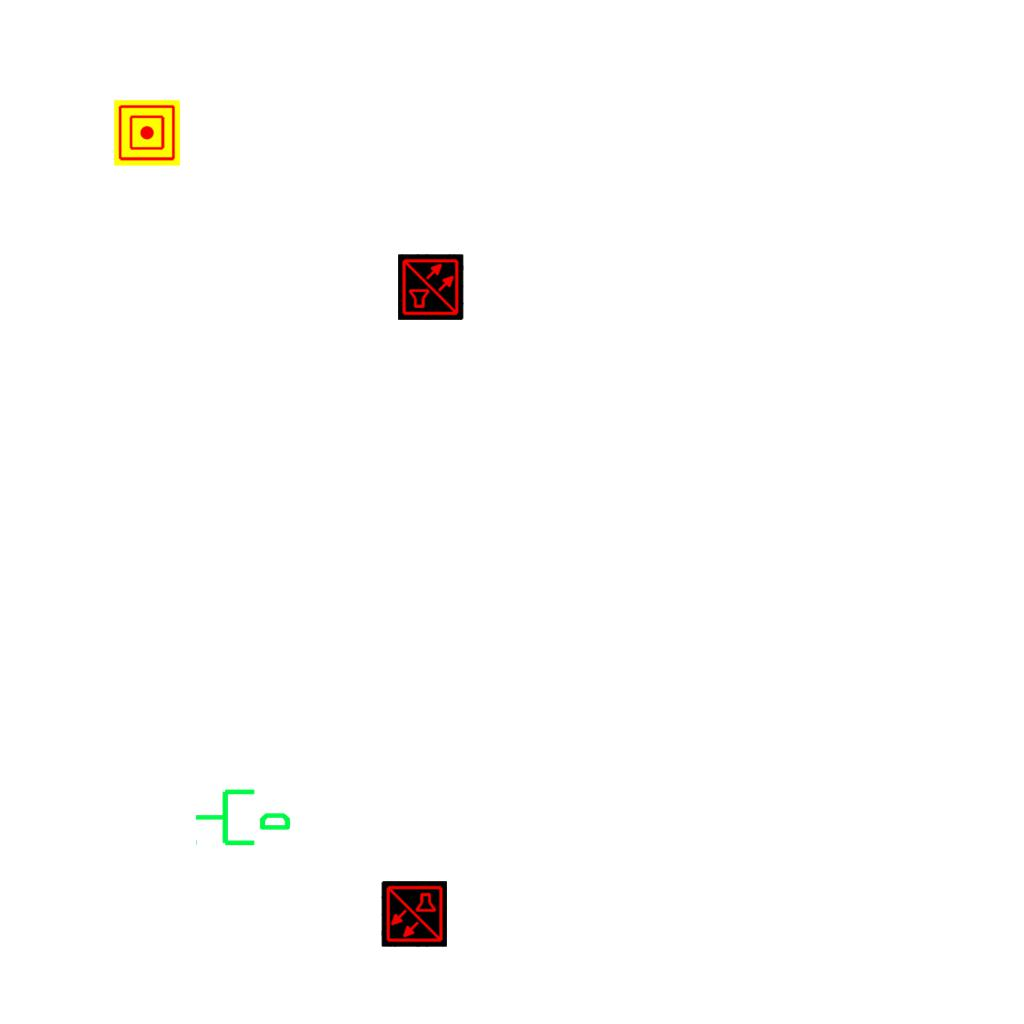Datenanschluss_einfach: (193, 781, 293, 850)
NAM-Nichtautomatischer_Melder: (114, 100, 180, 166)
OKW_Multisensormelder_(Kombination_optischer_Rauch-Kahlenmonoxid_Waerme-Melder): (398, 254, 464, 320), (381, 881, 447, 947)
